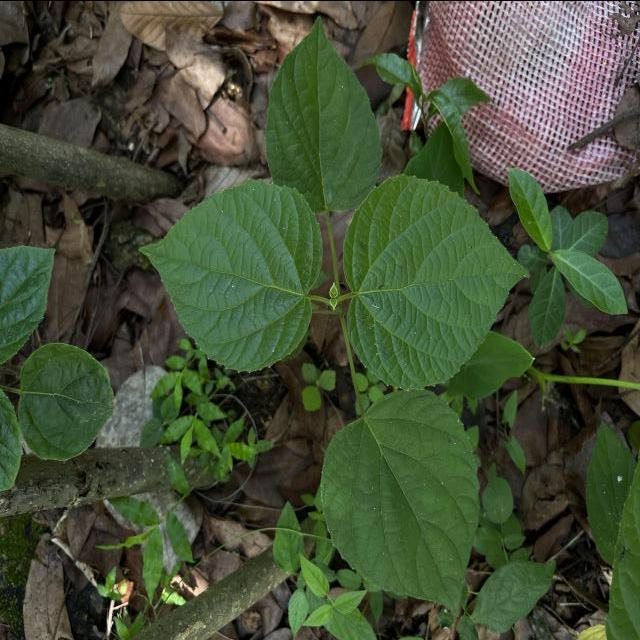Clerodendrum infortunatum: (340, 170, 533, 392), (318, 387, 482, 619), (136, 175, 326, 375), (262, 12, 384, 214)
